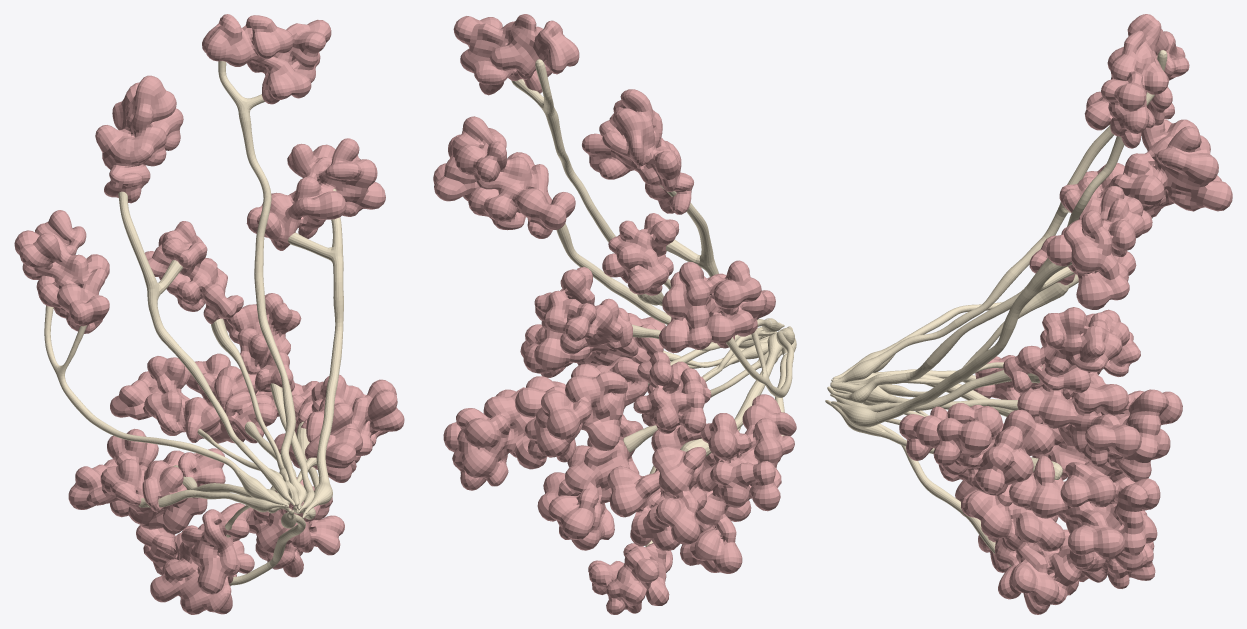
The model's file is mammary_r.glb.
3 views of the same model, side by side, from view 1: azimuth 30°, elevation 25°; view 2: azimuth 150°, elevation 25°; view 3: azimuth 270°, elevation 25° (orthographic). The views are drawn at different scales.
Parts seen in each view (by area): view 1: VH_F_mammary_lobes_R, VH_F_main_lactiferous_sinuses_R; view 2: VH_F_mammary_lobes_R, VH_F_main_lactiferous_sinuses_R; view 3: VH_F_mammary_lobes_R, VH_F_main_lactiferous_sinuses_R.
Boxes of the visible parts, x1,y1,x2,y2 form: VH_F_mammary_lobes_R: (14, 14, 404, 614); VH_F_main_lactiferous_sinuses_R: (44, 61, 343, 585); VH_F_mammary_lobes_R: (433, 14, 796, 614); VH_F_main_lactiferous_sinuses_R: (511, 59, 796, 546); VH_F_mammary_lobes_R: (899, 14, 1232, 614); VH_F_main_lactiferous_sinuses_R: (825, 50, 1167, 566).
Bounding box in the file's own units: 0.071 × 0.1106 × 0.0678.
